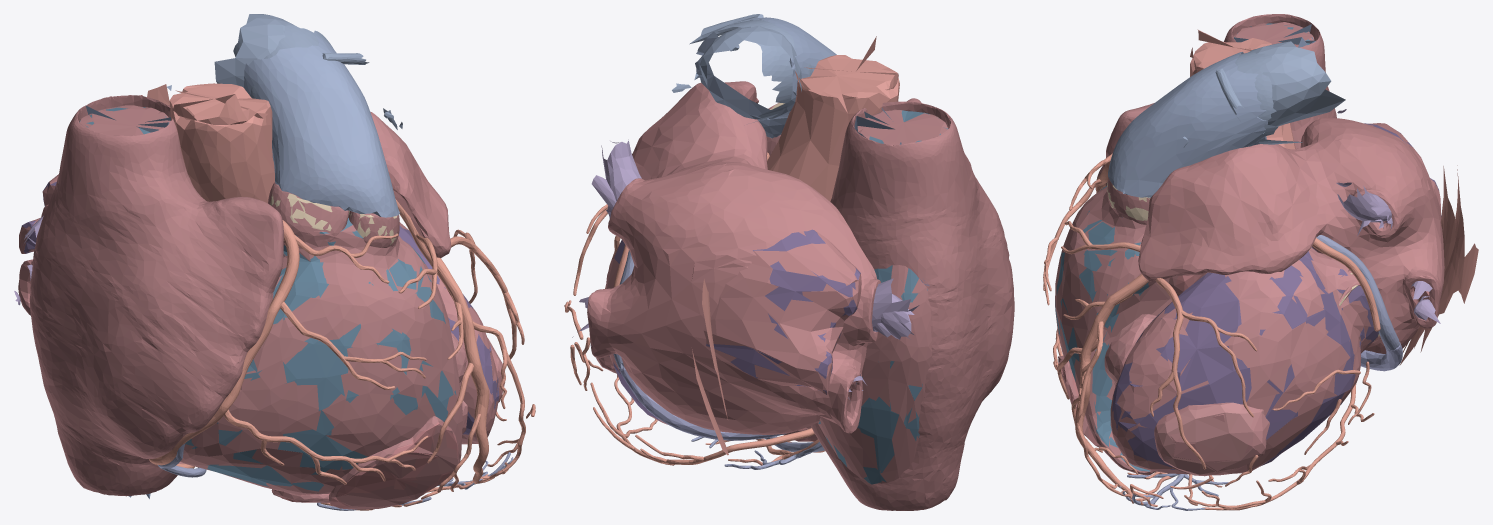
The model's file is anatomy.glb.
The picture shows the model from 3 angles, left to right: view 1: azimuth 30°, elevation 25°; view 2: azimuth 150°, elevation 25°; view 3: azimuth 270°, elevation 25°; orthographic projection. The views are drawn at different scales.
Parts seen in each view (by area): view 1: ra, rv, pulmonary_trunk, cav_rv, aorta, lmca, rca, la, pm_rv_ant, rpa, lv, lpa (+2 smaller); view 2: la, ra, aorta, cav_la, pulmonary_trunk, cav_ra, rca, lpa, pv_lspv, pv_rspv, rpa, lmca (+3 smaller); view 3: la, lv, cav_lv, pulmonary_trunk, rv, lmca, pm_lv, aorta, rpa, cav_rv, rca, ra (+6 smaller).
Boxes of the visible parts, x1,y1,x2,y2 form: ra: (29, 95, 283, 496); rv: (180, 182, 462, 509); pulmonary_trunk: (244, 32, 400, 217); cav_rv: (185, 218, 456, 491); aorta: (139, 83, 274, 203); lmca: (395, 199, 535, 499); rca: (149, 220, 499, 510); la: (18, 105, 450, 315); pm_rv_ant: (329, 422, 458, 509); rpa: (167, 14, 296, 90); lv: (399, 222, 504, 444); lpa: (233, 25, 402, 129); la: (587, 81, 880, 434); ra: (811, 98, 1014, 510); aorta: (692, 36, 899, 455); cav_la: (706, 229, 860, 394); pulmonary_trunk: (695, 17, 836, 138); cav_ra: (818, 110, 947, 484); rca: (590, 374, 825, 465); lpa: (672, 14, 812, 122); pv_lspv: (591, 139, 641, 218); pv_rspv: (872, 278, 929, 339); rpa: (699, 26, 801, 91); lmca: (564, 152, 769, 390); la: (1138, 118, 1444, 353); lv: (1104, 247, 1373, 475); cav_lv: (1112, 247, 1378, 469); pulmonary_trunk: (1108, 52, 1267, 197); rv: (1055, 177, 1182, 475); lmca: (1057, 221, 1380, 506); pm_lv: (1107, 317, 1266, 476); aorta: (1190, 29, 1478, 365); rpa: (1248, 41, 1345, 126); cav_rv: (1055, 186, 1150, 471); rca: (1043, 153, 1374, 510); ra: (1095, 14, 1336, 190).
Bounding box in the file's own units: 1.15 × 1.18 × 1.14.
